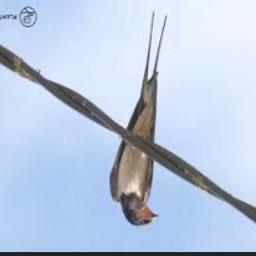Swallow: (109, 12, 168, 226)
